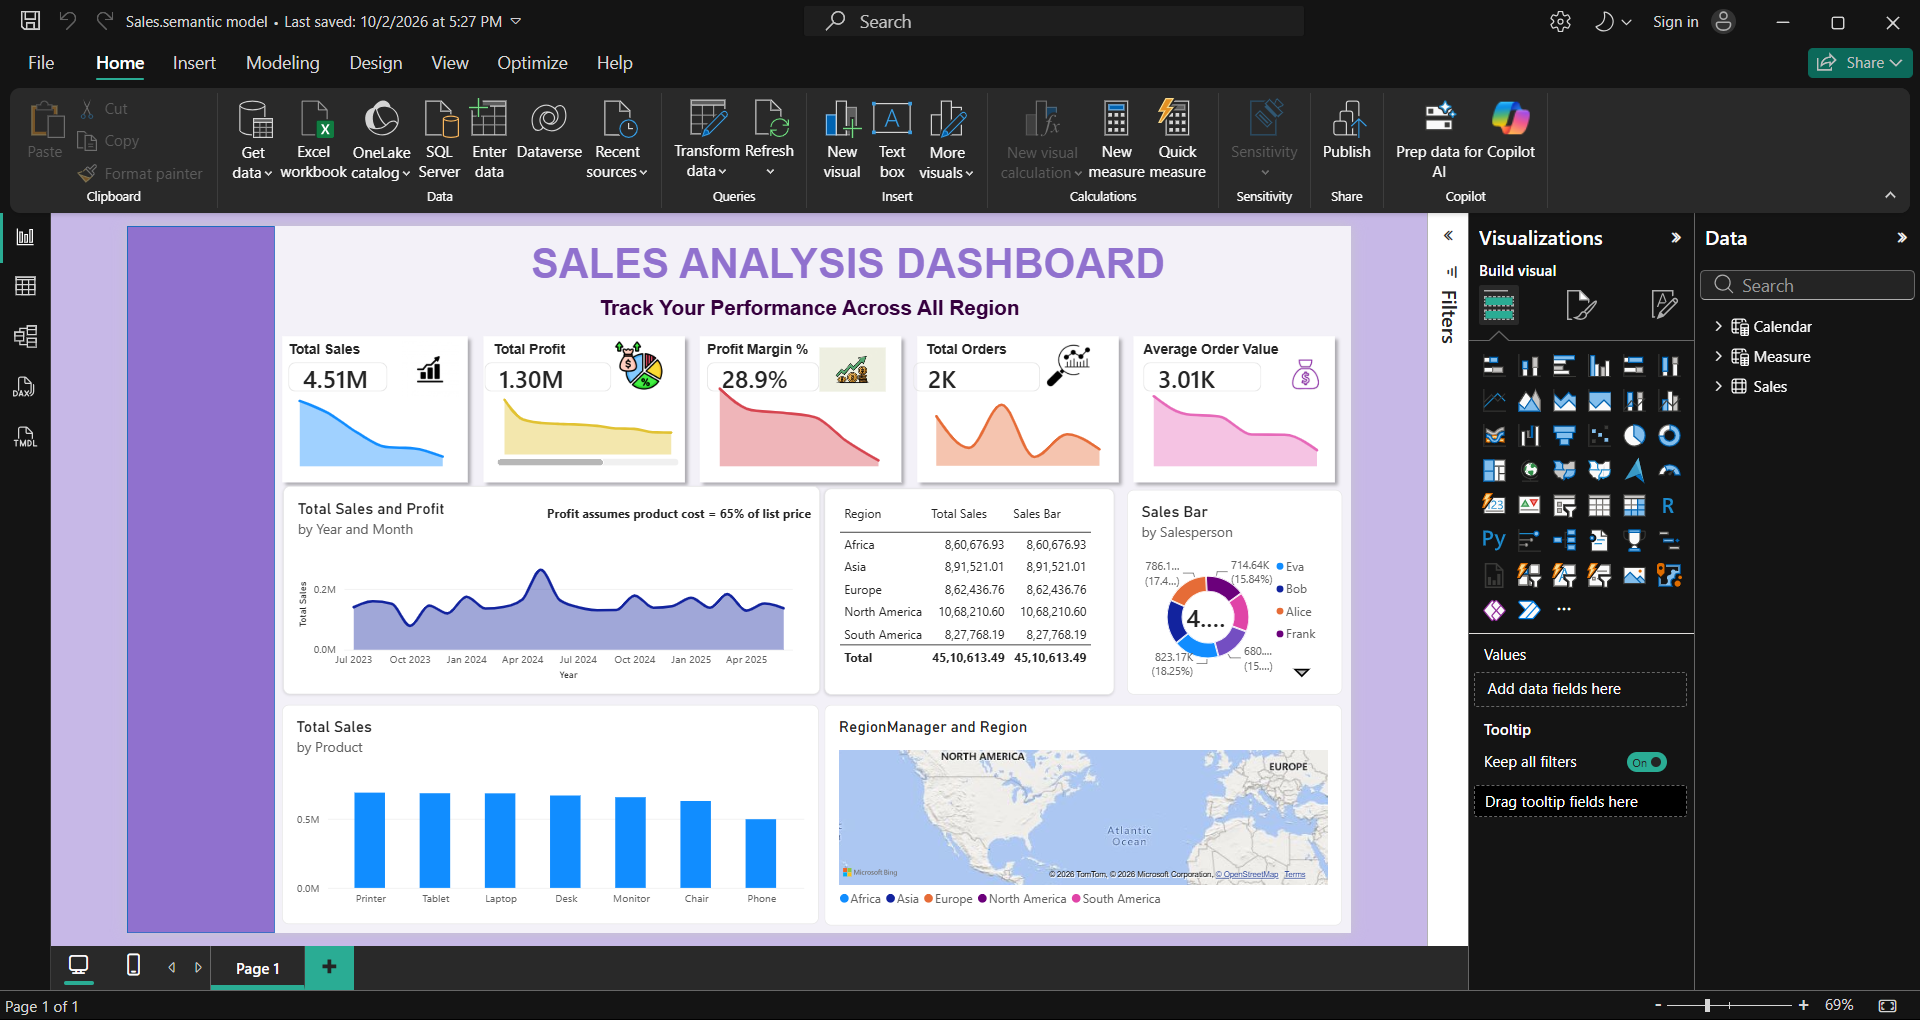

The dashboard page shown, as its layout file describes it:
{"tool":"powerbi","page":{"name":"Page 1","canvas":[1420,820],"ordinal":0},"visuals":[{"type":"textbox","box":[448.6,15.7,774.3,55.7],"z":0},{"type":"textbox","box":[547.1,81.4,511.4,37.1],"z":1},{"type":"shape","box":[0,0,171.4,820],"z":2},{"type":"shape","box":[171.4,118.6,232.9,187.1],"z":3},{"type":"shape","box":[404.3,118.6,251.4,187.1],"z":4},{"type":"shape","box":[655.7,118.6,251.4,187.1],"z":5},{"type":"shape","box":[907.1,118.6,251.4,187.1],"z":6},{"type":"shape","box":[1158.6,118.6,251.4,187.1],"z":7},{"type":"textbox","box":[187.1,132.9,101.4,25.7],"z":8},{"type":"textbox","box":[424.3,132.9,105.7,25.7],"z":9},{"type":"textbox","box":[672.9,132.9,234.3,25.7],"z":10},{"type":"textbox","box":[925.7,132.9,220,25.7],"z":11},{"type":"textbox","box":[1178.6,132.9,231.4,25.7],"z":12},{"type":"cardVisual","fields":{"Data":["Measure.Total Sales"]},"box":[187.1,158.6,115.7,34.3],"z":13},{"type":"cardVisual","fields":{"Data":["Measure.Profit"]},"box":[414.3,158.6,147.1,34.3],"z":14},{"type":"cardVisual","fields":{"Data":["Measure.Profit Margin %"]},"box":[672.9,158.6,130,34.3],"z":15},{"type":"cardVisual","fields":{"Data":["Measure.Total Order"]},"box":[911.4,158.6,147.1,34.3],"z":16},{"type":"cardVisual","fields":{"Data":["Measure.Average Order Value"]},"box":[1178.6,158.6,137.1,34.3],"z":17},{"type":"image","box":[312.9,132.9,77.1,65.7],"z":18},{"type":"image","box":[547.1,132.9,91.4,57.1],"z":19},{"type":"image","box":[1058.6,132.9,67.1,57.1],"z":20},{"type":"image","box":[802.9,137.1,77.1,57.1],"z":21},{"type":"image","box":[1337.1,137.1,57.1,75.7],"z":22},{"type":"areaChart","fields":{"Category":["Calendar.Month End.Variation.Date Hierarchy.Year","Calendar.Month End.Variation.Date Hierarchy.Month"],"Y":["Measure.Total Sales"]},"box":[180.6,301.5,622.4,241.8],"z":28},{"type":"clusteredColumnChart","fields":{"Category":["Sales.Product"],"Y":["Measure.Total Sales"]},"box":[180.3,554.5,622.7,254.5],"z":29},{"type":"tableEx","fields":{"Values":["Sales.Region","Measure.Total Sales","Measure.Sales Bar"]},"box":[809,304.5,335.8,238.8],"z":30},{"type":"donutChart","fields":{"Category":["Sales.Salesperson"],"Y":["Measure.Sales Bar"]},"box":[1159.7,306,249.3,237.3],"z":31},{"type":"areaChart","fields":{"Category":["Calendar.Year Month"],"Y":["Measure.Total Sales"]},"box":[171.2,159.1,224.2,134.8],"z":32},{"type":"areaChart","fields":{"Category":["Calendar.Year Month"],"Y":["Measure.Profit"]},"box":[413.6,175.8,242.4,118.2],"z":33},{"type":"areaChart","fields":{"Category":["Calendar.Year Month"],"Y":["Measure.Profit Margin %"]},"box":[656.1,159.1,245.5,134.8],"z":34},{"type":"areaChart","fields":{"Category":["Calendar.Year Month","Calendar.Year End.Variation.Date Hierarchy.Year","Calendar.Year End.Variation.Date Hierarchy.Quarter","Calendar.Year End.Variation.Date Hierarchy.Month","Calendar.Year End.Variation.Date Hierarchy.Day"],"Y":["Measure.Total Sales"]},"box":[907.6,165.2,251.5,128.8],"z":35},{"type":"areaChart","fields":{"Category":["Calendar.Year Month"],"Y":["Measure.Average Order Value"]},"box":[1159.1,159.1,251.5,134.8],"z":36},{"type":"filledMap","fields":{"Category":["Sales.RegionManager"],"Series":["Sales.Region"]},"box":[809.1,554.5,600,256.1],"z":37},{"type":"textbox","box":[487.5,323.4,315.6,42.2],"z":38}]}

Visuals, with their boxes on the page's 1420x820 design canvas (x1, y1, x2, y2). These are canvas units, not pixel positions in the 1920x1020 screenshot, which may show the page scaled, cropped or inside an application window:
textbox: 449/16/1223/71
textbox: 547/81/1058/118
shape: 0/0/171/820
shape: 171/119/404/306
shape: 404/119/656/306
shape: 656/119/907/306
shape: 907/119/1158/306
shape: 1159/119/1410/306
textbox: 187/133/288/159
textbox: 424/133/530/159
textbox: 673/133/907/159
textbox: 926/133/1146/159
textbox: 1179/133/1410/159
cardVisual - Measure.Total Sales: 187/159/303/193
cardVisual - Measure.Profit: 414/159/561/193
cardVisual - Measure.Profit Margin %: 673/159/803/193
cardVisual - Measure.Total Order: 911/159/1058/193
cardVisual - Measure.Average Order Value: 1179/159/1316/193
image: 313/133/390/199
image: 547/133/638/190
image: 1059/133/1126/190
image: 803/137/880/194
image: 1337/137/1394/213
areaChart - Calendar.Month End.Variation.Date Hierarchy.Year x Calendar.Month End.Variation.Date Hierarchy.Month: 181/302/803/543
clusteredColumnChart - Sales.Product x Measure.Total Sales: 180/554/803/809
tableEx - Sales.Region x Measure.Total Sales: 809/304/1145/543
donutChart - Sales.Salesperson x Measure.Sales Bar: 1160/306/1409/543
areaChart - Calendar.Year Month x Measure.Total Sales: 171/159/395/294
areaChart - Calendar.Year Month x Measure.Profit: 414/176/656/294
areaChart - Calendar.Year Month x Measure.Profit Margin %: 656/159/902/294
areaChart - Calendar.Year Month x Calendar.Year End.Variation.Date Hierarchy.Year: 908/165/1159/294
areaChart - Calendar.Year Month x Measure.Average Order Value: 1159/159/1411/294
filledMap - Sales.RegionManager x Sales.Region: 809/554/1409/811
textbox: 488/323/803/366
